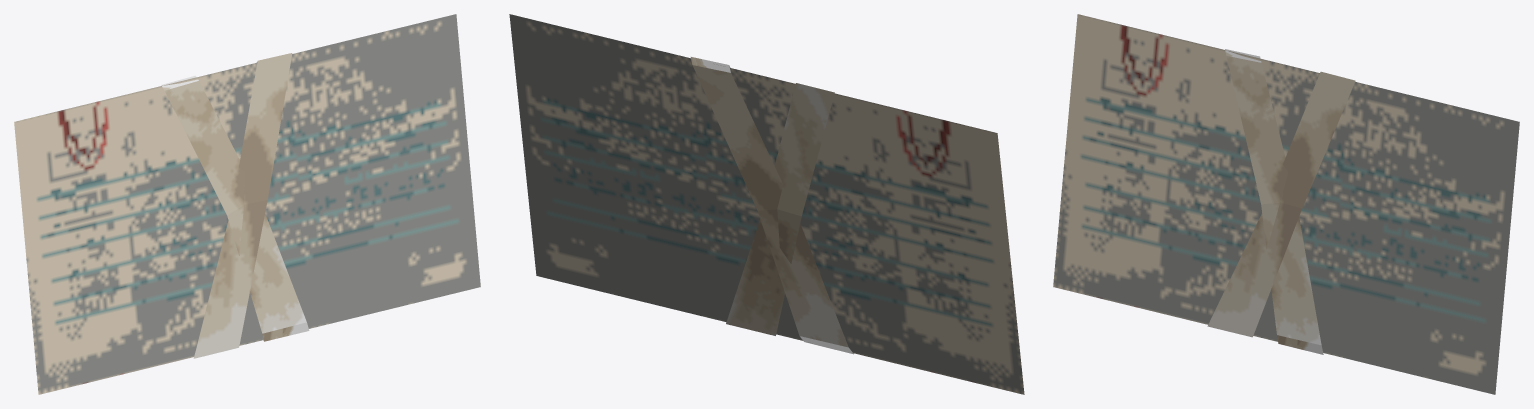
The model's file is FixedNote.fbx.
3 renders of one model, left to right at view 1: azimuth 30°, elevation 25°; view 2: azimuth 150°, elevation 25°; view 3: azimuth 330°, elevation 25°, orthographic. The views are drawn at different scales.
Parts seen in each view (by area): view 1: NoteWhole; view 2: NoteWhole; view 3: NoteWhole.
Boxes of the visible parts, bbox=[...] form: NoteWhole: bbox=[14, 14, 480, 394]; NoteWhole: bbox=[509, 14, 1024, 394]; NoteWhole: bbox=[1053, 14, 1519, 394].
Bounding box in the file's own units: 0.611 × 0.3421 × 0.0612.
